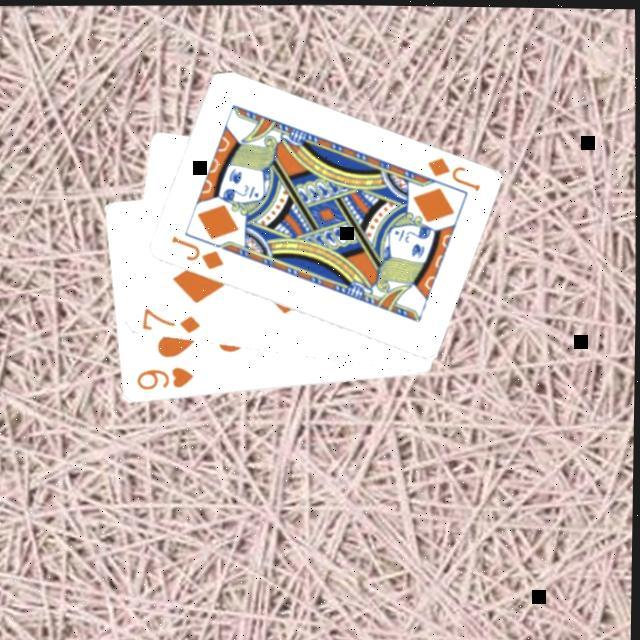7D: (141, 305, 206, 338)
9H: (134, 364, 198, 396)
JD: (168, 232, 229, 275), (425, 153, 484, 196)
